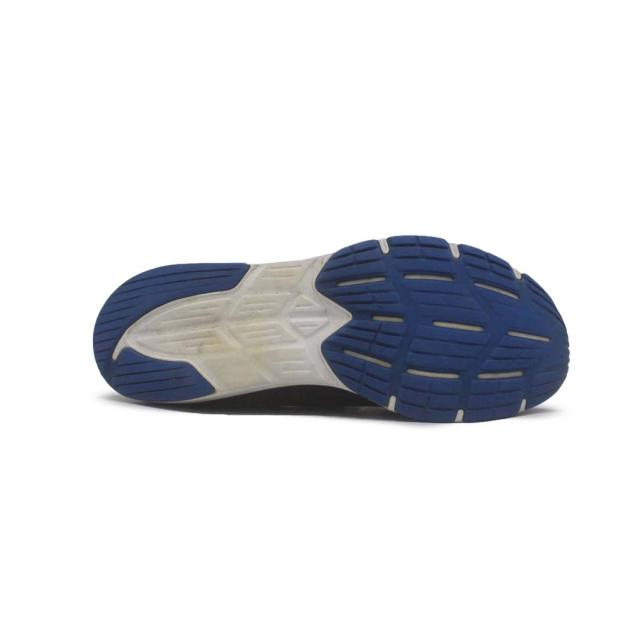outersole: (95, 239, 567, 417)
